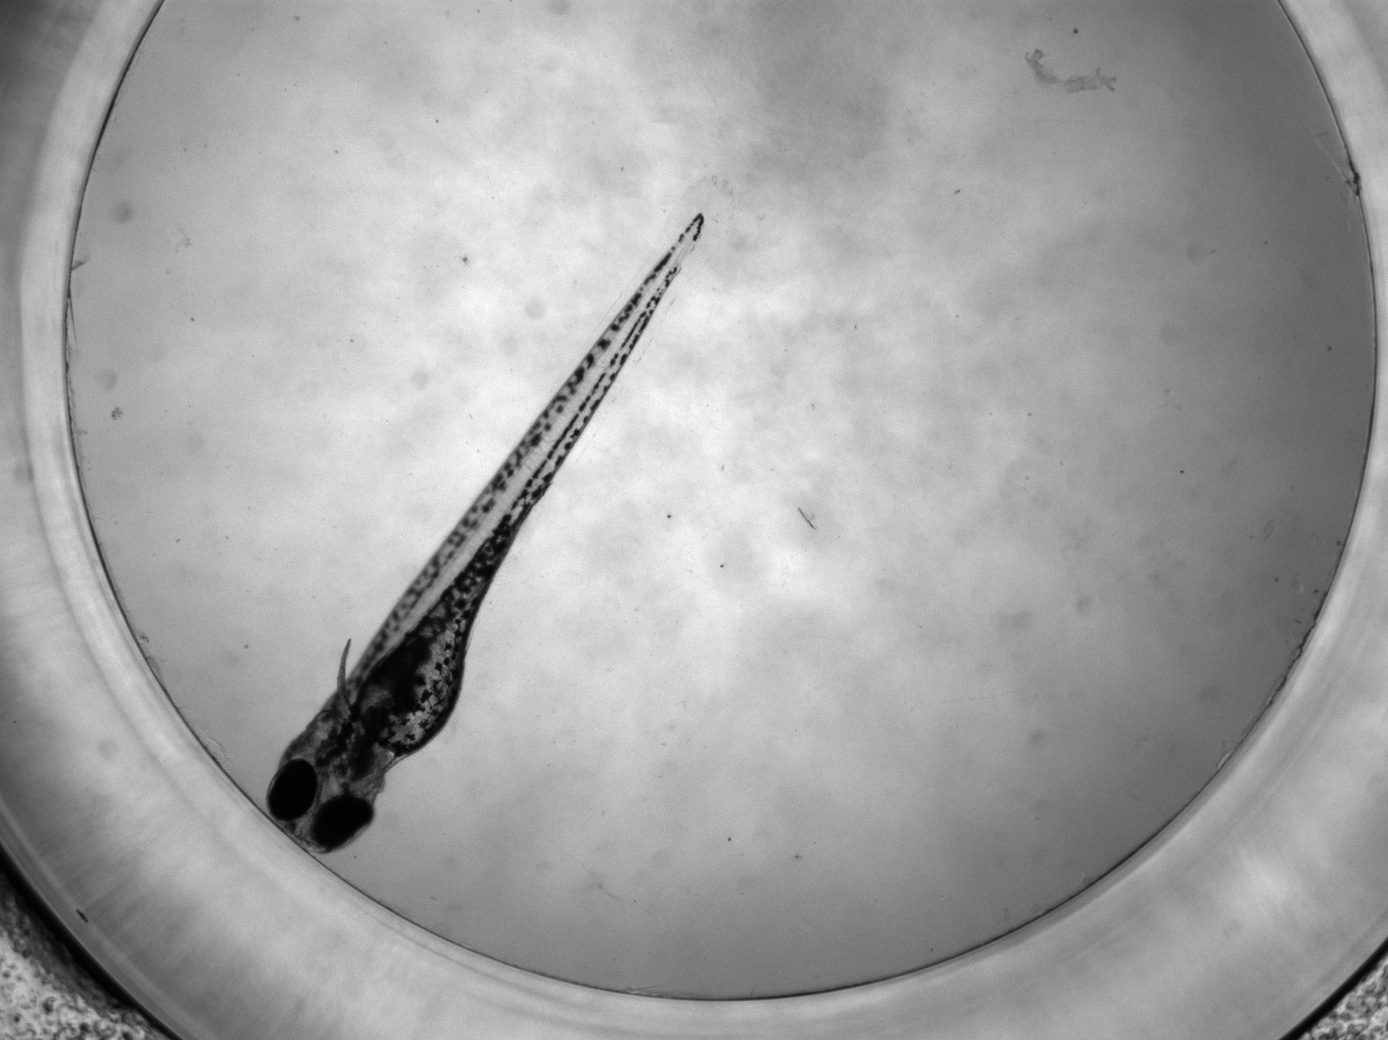embryo: (266, 213, 705, 852)
eye: (309, 795, 373, 851), (266, 759, 319, 820)
yolksac: (356, 637, 467, 754)
